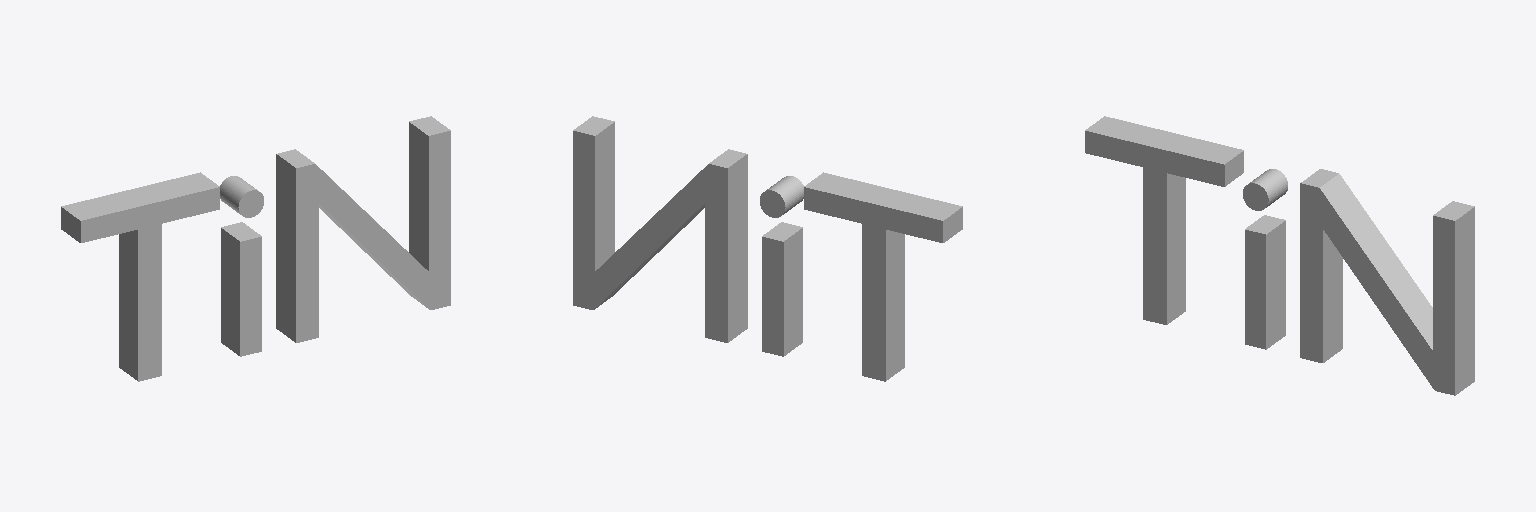
File: Tin.obj
3 renders of one model, left to right at view 1: azimuth 30°, elevation 25°; view 2: azimuth 150°, elevation 25°; view 3: azimuth 330°, elevation 25°, orthographic.
Parts seen in each view (by area): view 1: Text; view 2: Text; view 3: Text.
Boxes of the visible parts, x1,y1,x2,y2 form: Text: [61, 116, 450, 381]; Text: [573, 116, 962, 381]; Text: [1085, 116, 1474, 395].
Bounding box in the file's own units: 1.51 × 0.682 × 0.14.